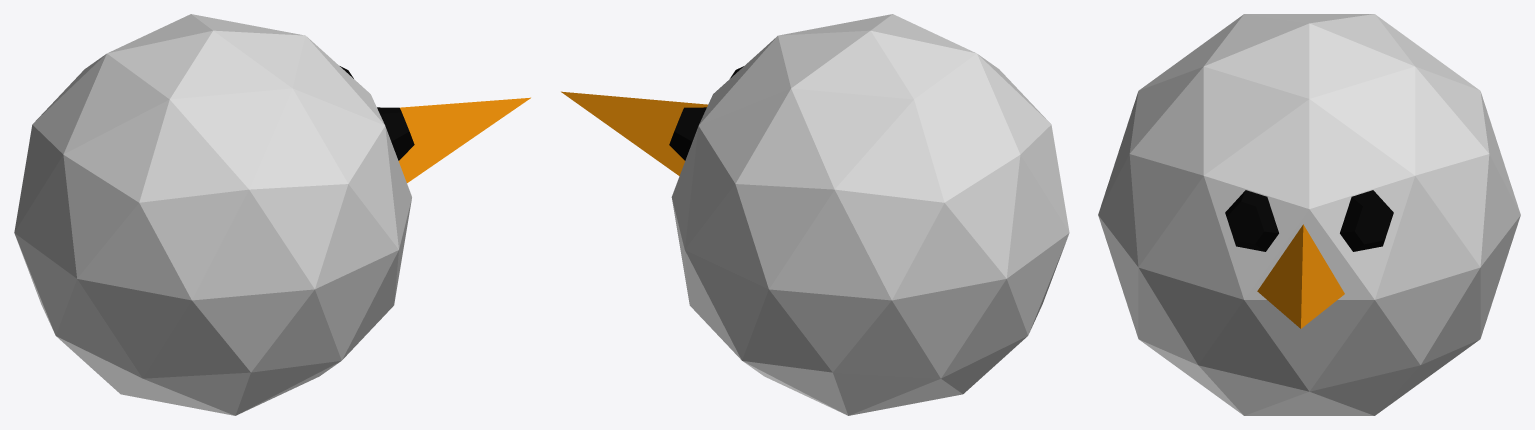
The model's file is snowmanHead.glb.
3 views of the same model, side by side, from view 1: azimuth 30°, elevation 25°; view 2: azimuth 150°, elevation 25°; view 3: azimuth 270°, elevation 25° (orthographic). The views are drawn at different scales.
Visible parts, largest first — view 1: snowhead; view 2: snowhead; view 3: snowhead.
Boxes of the visible parts, bbox=[...] form: snowhead: bbox=[14, 14, 530, 415]; snowhead: bbox=[561, 14, 1069, 415]; snowhead: bbox=[1098, 14, 1520, 415].
Bounding box in the file's own units: 2.74 × 2 × 2.
